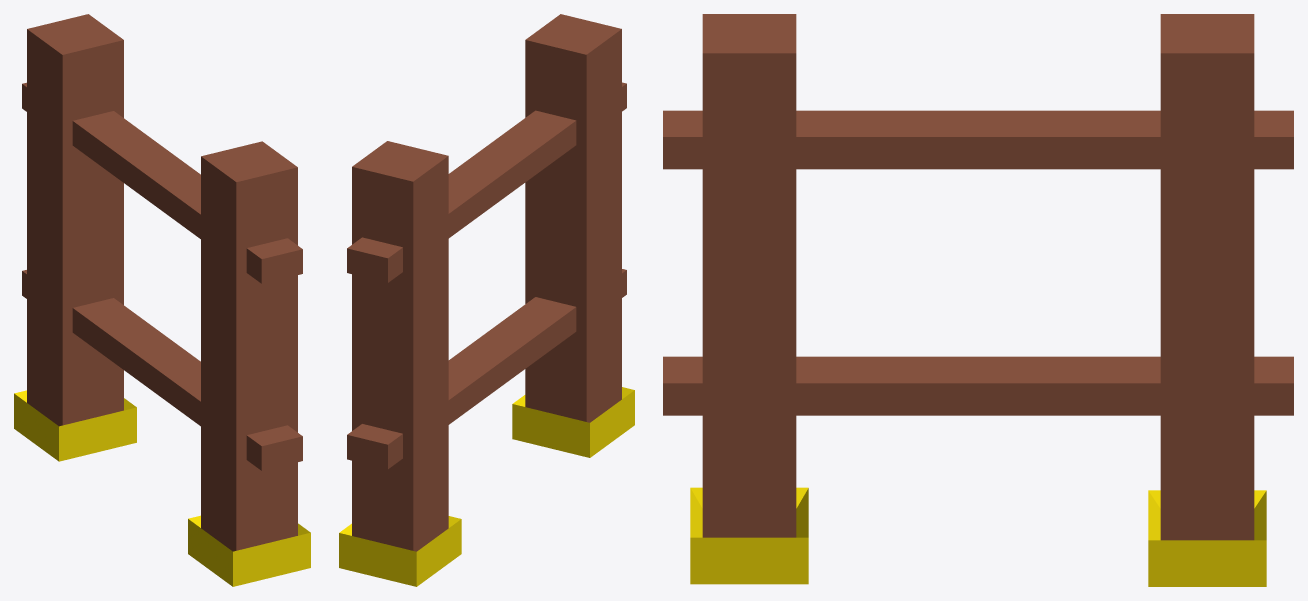
Rendered from ladder_mid.fbx.
The picture shows the model from 3 angles, left to right: view 1: azimuth 30°, elevation 25°; view 2: azimuth 150°, elevation 25°; view 3: azimuth 270°, elevation 25°; orthographic projection. The views are drawn at different scales.
Parts seen in each view (by area): view 1: Ladder_Mid; view 2: Ladder_Mid; view 3: Ladder_Mid.
Part boxes in pixels (x1,y1,x2,y2): Ladder_Mid: (14,14,310,586); Ladder_Mid: (339,14,634,586); Ladder_Mid: (663,14,1293,586).
Bounding box in the file's own units: 42.51 × 209 × 227.
